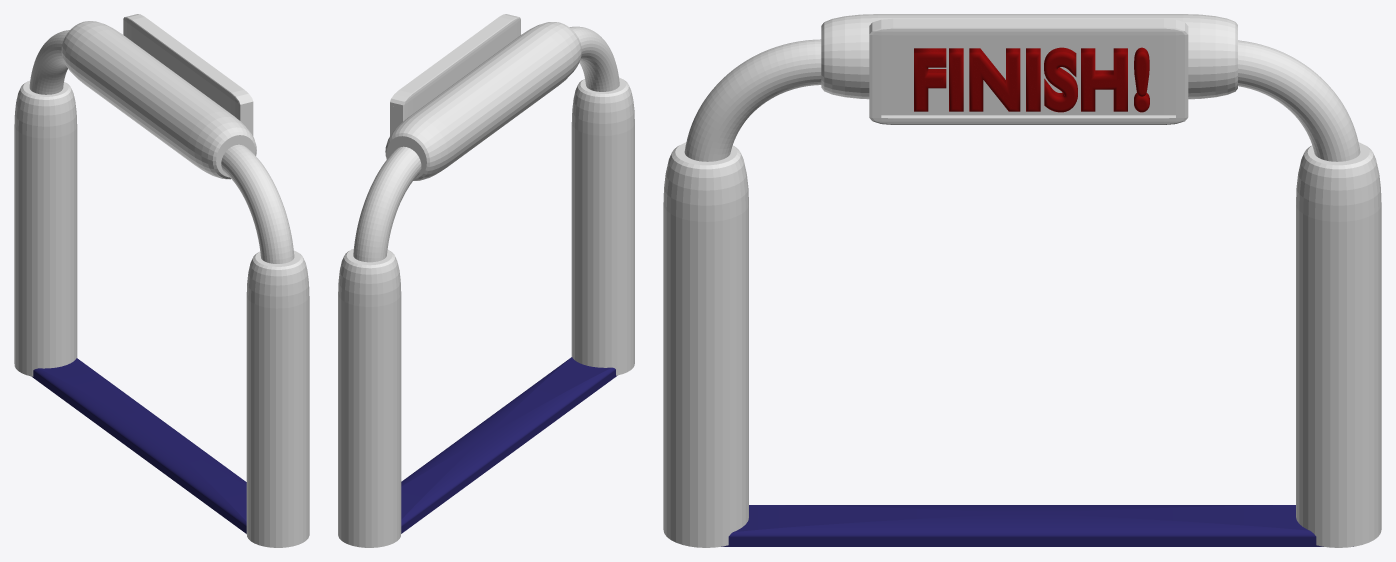
The model's file is finalGate.fbx.
The picture shows the model from 3 angles, left to right: view 1: azimuth 30°, elevation 25°; view 2: azimuth 150°, elevation 25°; view 3: azimuth 270°, elevation 25°; orthographic projection. The views are drawn at different scales.
Visible parts, largest first — view 1: Cylinder.001, Cylinder.002, Cylinder.004, Cube.001, Cube, Cylinder, Cylinder.003; view 2: Cylinder.002, Cylinder.001, Cylinder.004, Cube.001, Cube, Cylinder.003, Cylinder; view 3: Cylinder.001, Cylinder.002, Cube, Cube.001, Text, Cylinder.004, Cylinder, Cylinder.003.
Boxes of the visible parts, x1=… form: Cylinder.001: x1=246, y1=250, x2=309, y2=547; Cylinder.002: x1=14, y1=80, x2=77, y2=376; Cylinder.004: x1=61, y1=21, x2=256, y2=179; Cube.001: x1=32, y1=358, x2=246, y2=533; Cube: x1=123, y1=14, x2=253, y2=136; Cylinder: x1=221, y1=144, x2=294, y2=263; Cylinder.003: x1=29, y1=30, x2=69, y2=94; Cylinder.002: x1=338, y1=248, x2=401, y2=547; Cylinder.001: x1=571, y1=77, x2=634, y2=375; Cylinder.004: x1=385, y1=22, x2=581, y2=180; Cube.001: x1=401, y1=357, x2=617, y2=533; Cube: x1=390, y1=14, x2=520, y2=135; Cylinder.003: x1=353, y1=146, x2=421, y2=262; Cylinder: x1=569, y1=26, x2=619, y2=91; Cylinder.001: x1=663, y1=142, x2=748, y2=547; Cylinder.002: x1=1296, y1=142, x2=1381, y2=547; Cube: x1=869, y1=18, x2=1188, y2=124; Cube.001: x1=721, y1=505, x2=1353, y2=546; Text: x1=914, y1=47, x2=1149, y2=112; Cylinder.004: x1=821, y1=14, x2=1237, y2=99; Cylinder: x1=684, y1=39, x2=821, y2=161; Cylinder.003: x1=1238, y1=40, x2=1360, y2=161.
Size of the model in its own units: 30.16 by 166 by 204.
Materials: 5 (1 with a texture image).
